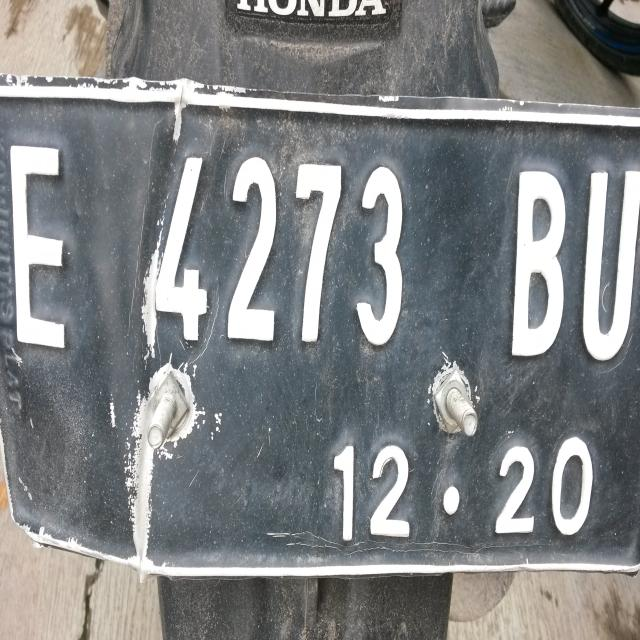plate: (0, 75, 640, 581)
